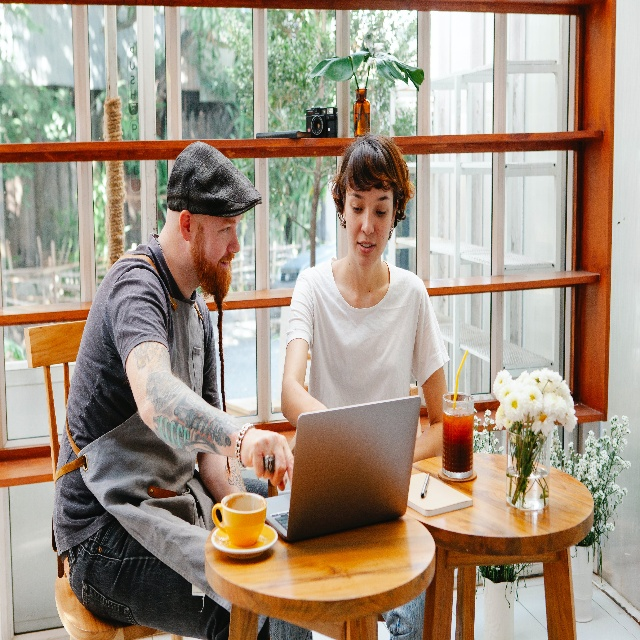Sin_guantes: (239, 427, 294, 491)
